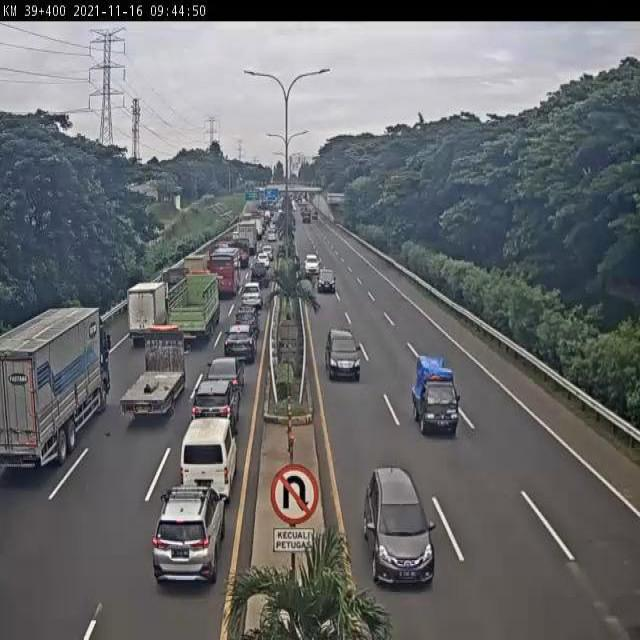big bus: (207, 247, 244, 296)
car: (361, 465, 434, 583), (150, 490, 222, 586), (183, 419, 238, 500), (412, 356, 463, 436), (188, 382, 236, 447), (325, 327, 365, 385), (205, 355, 246, 396), (223, 327, 255, 365), (232, 308, 259, 335), (236, 288, 261, 316), (318, 269, 336, 295)
small truck: (127, 283, 171, 348), (179, 248, 208, 291)
truck-l-: (2, 312, 112, 469), (167, 272, 219, 347)
truck-m-: (121, 333, 189, 419)
